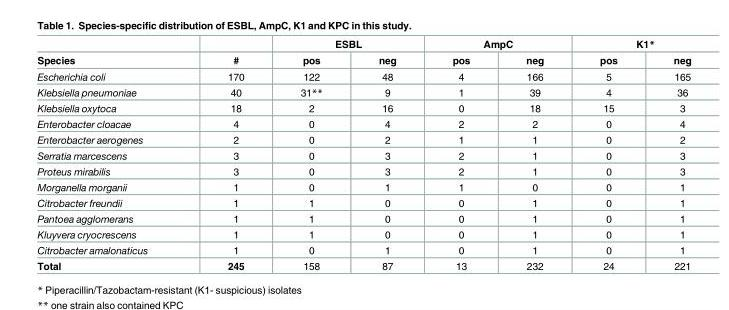table: (36, 37, 690, 271)
table column: (36, 37, 186, 271), (186, 37, 271, 271), (271, 37, 349, 271), (349, 37, 423, 271), (423, 37, 497, 271), (497, 37, 571, 271), (571, 37, 644, 271), (644, 37, 690, 271)
table column header: (36, 37, 690, 67)
table row: (36, 67, 690, 84), (36, 51, 690, 67), (36, 99, 690, 115), (36, 115, 690, 131), (36, 131, 690, 147), (36, 147, 690, 163), (36, 178, 690, 194), (36, 194, 690, 210), (36, 210, 690, 226), (36, 241, 690, 257), (36, 84, 690, 99), (36, 163, 690, 178), (36, 226, 690, 241), (36, 37, 690, 51), (36, 257, 690, 271)
table spanning cell: (36, 37, 186, 67), (186, 37, 271, 67), (271, 37, 423, 51), (423, 37, 571, 51), (571, 37, 690, 51)
